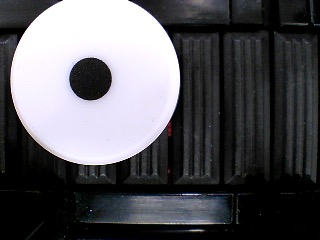BOHO: (9, 1, 181, 165)
